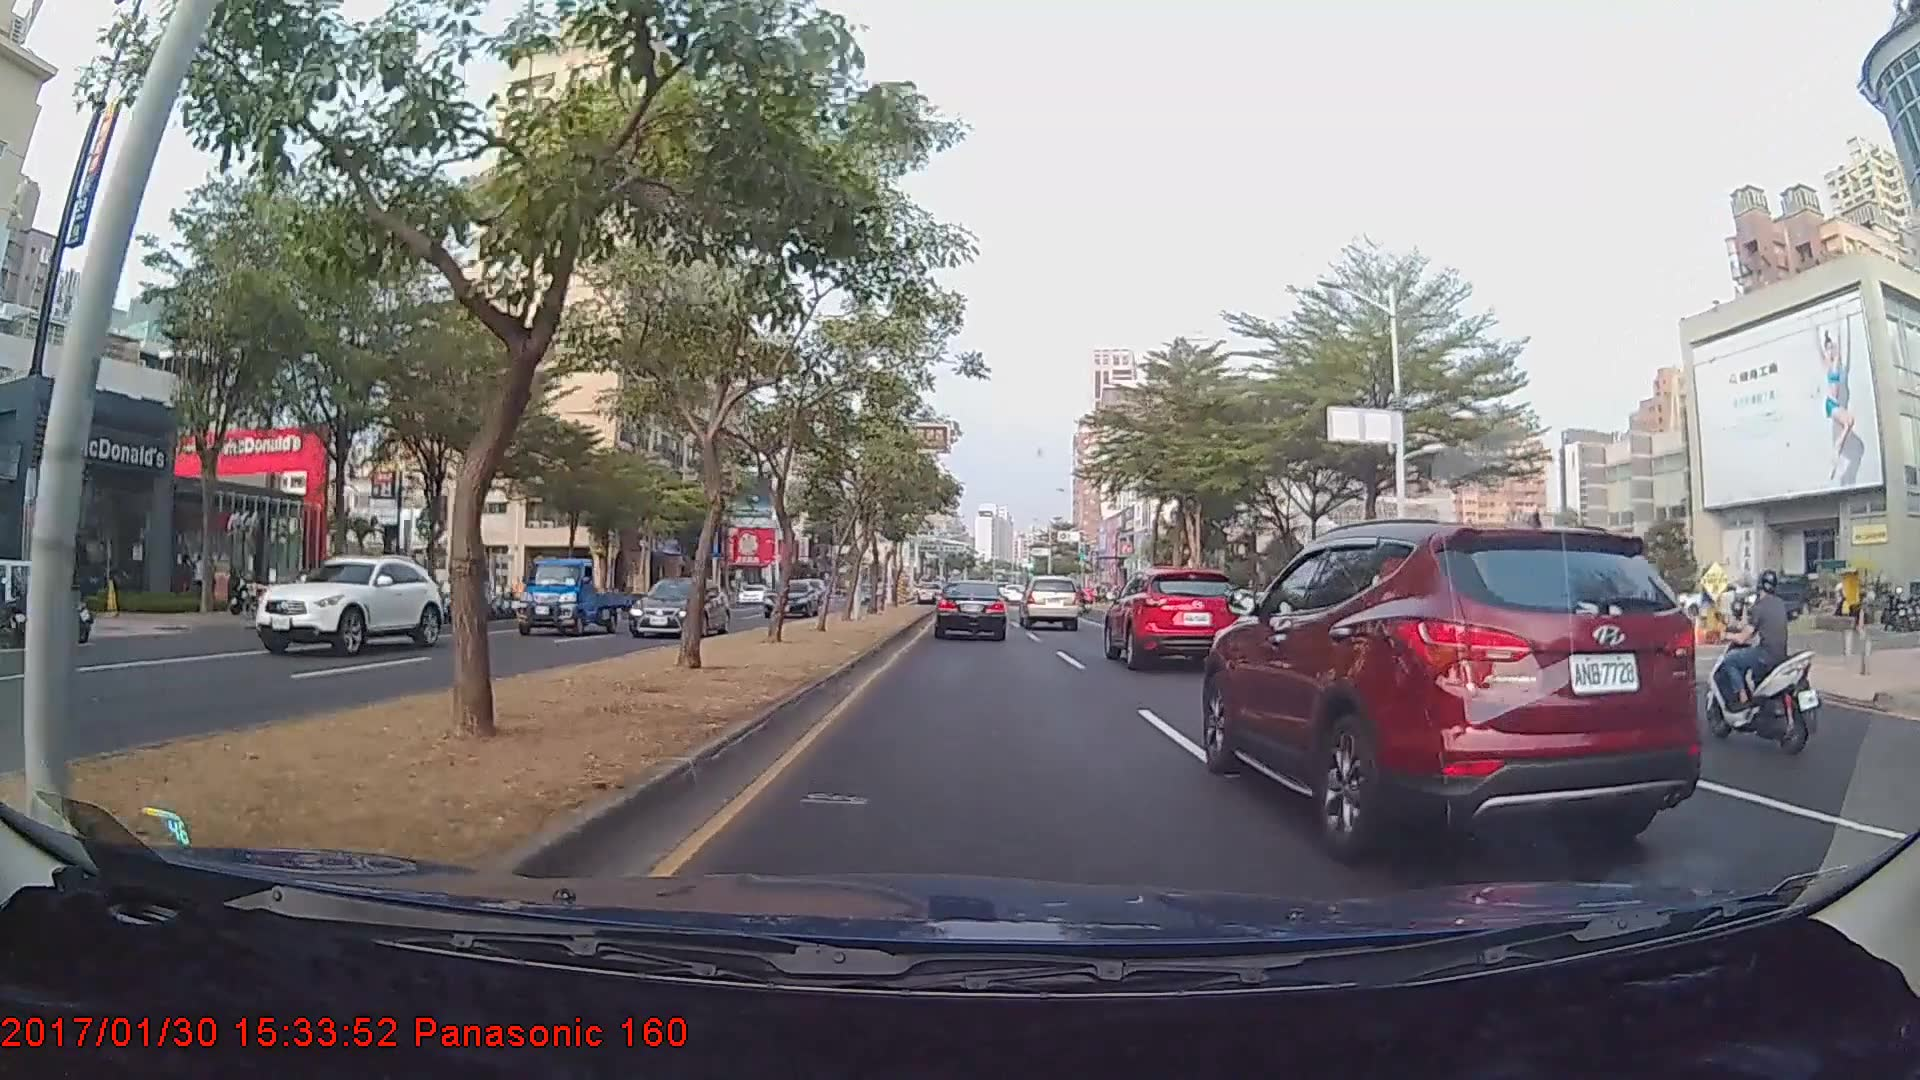rider: (1697, 566, 1823, 756)
vehicle: (1202, 523, 1704, 864), (250, 552, 444, 656), (1099, 564, 1246, 670), (515, 555, 627, 634), (628, 574, 730, 636), (934, 578, 1008, 641), (1021, 574, 1080, 631), (761, 578, 821, 618)
